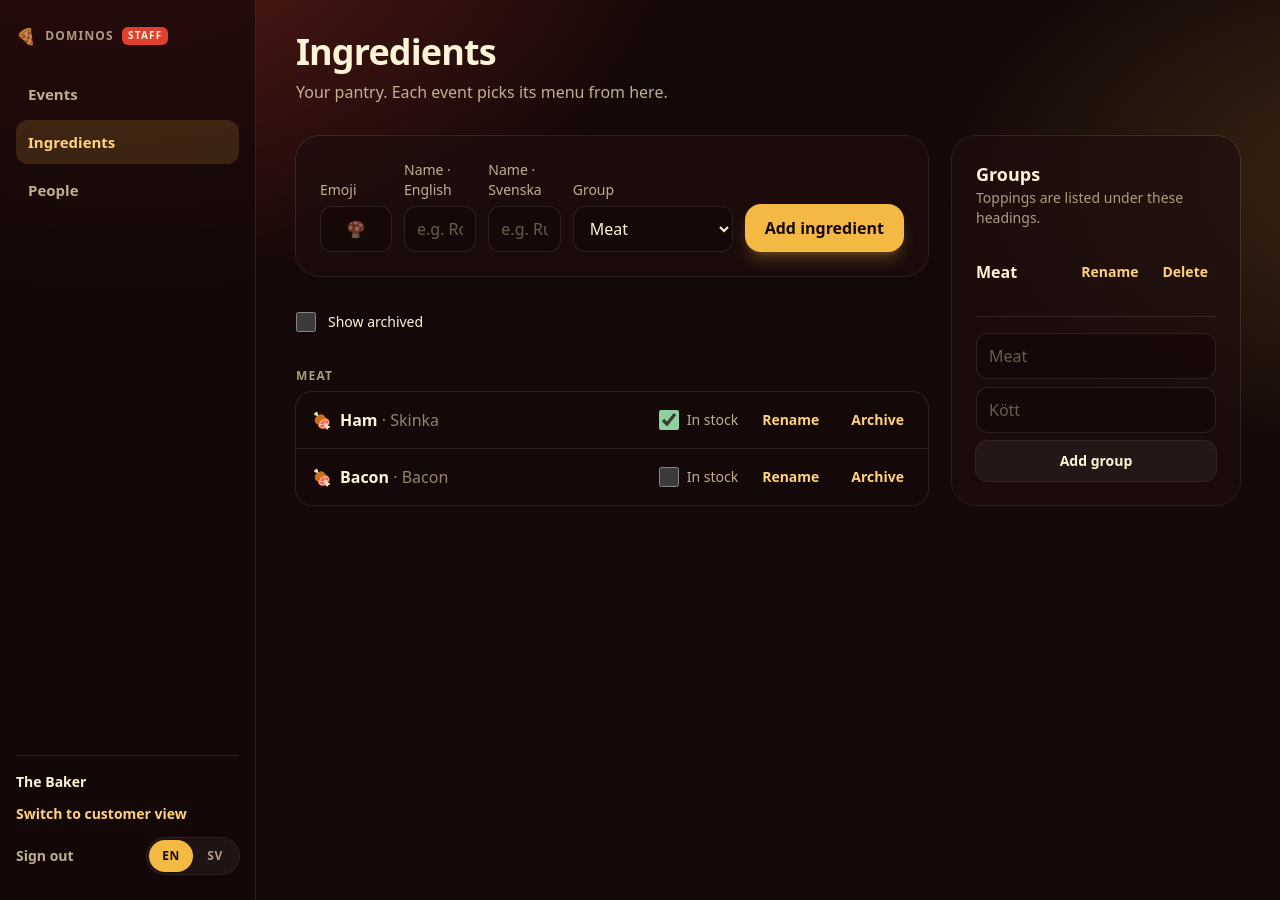
Scenario: the ingredients page › explains why a group with ingredients cannot be deleted
Click the button "Delete".
click(1185, 272)  # box [1154,252,1216,292]
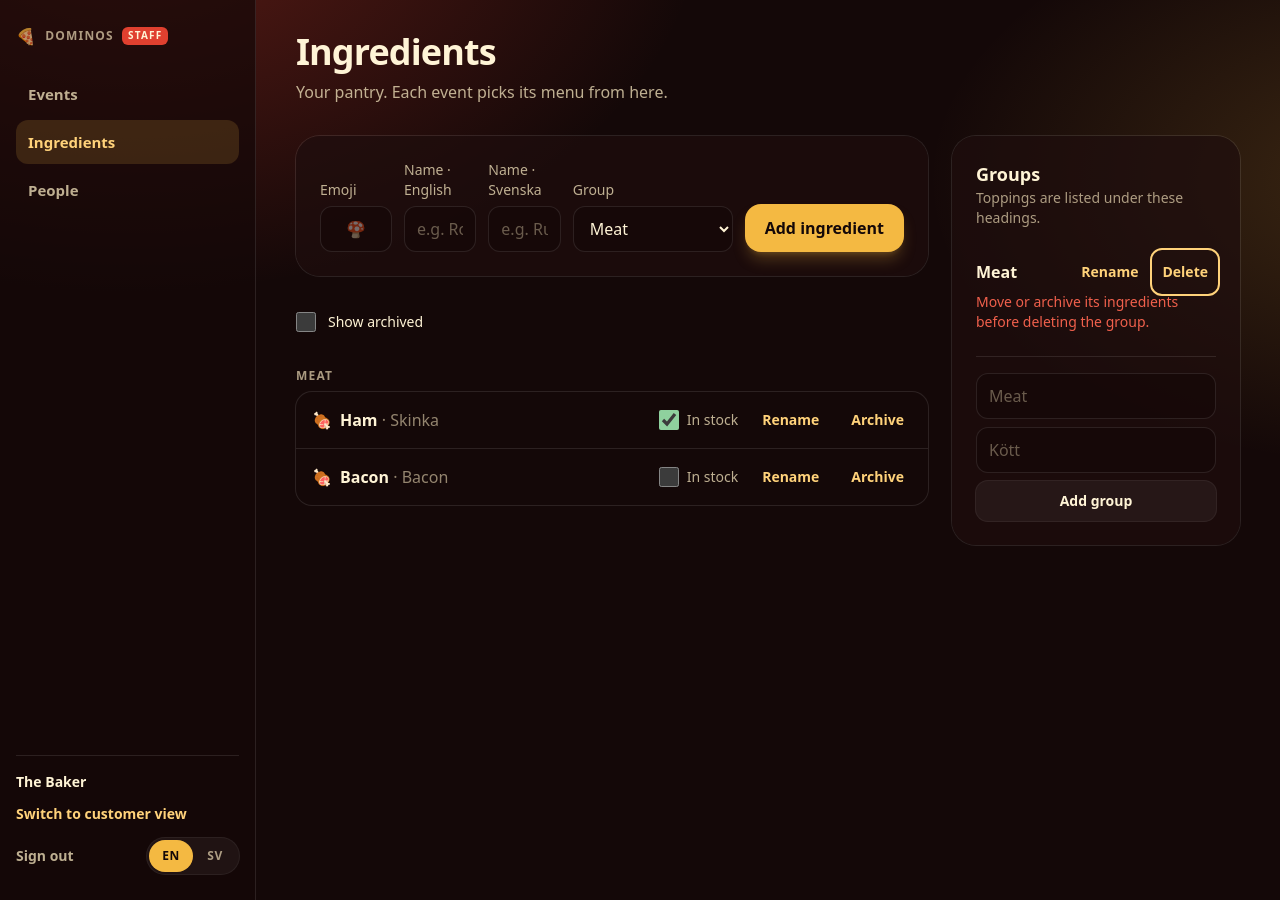
Now the message shows "Move or archive", box [976,292,1178,331]
